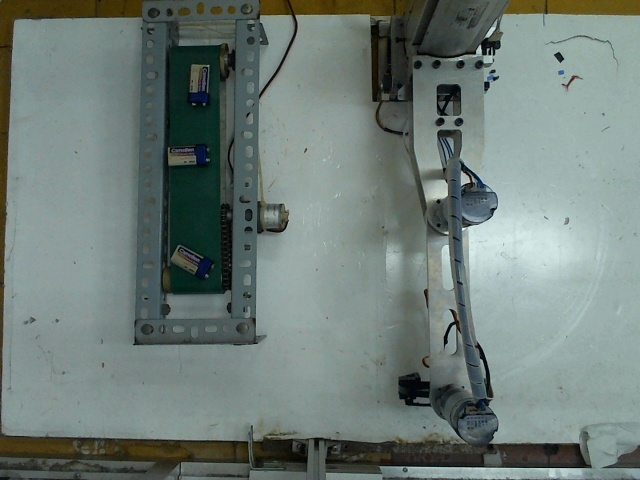battery: (161, 136, 210, 168), (167, 242, 213, 276), (187, 59, 215, 102)
